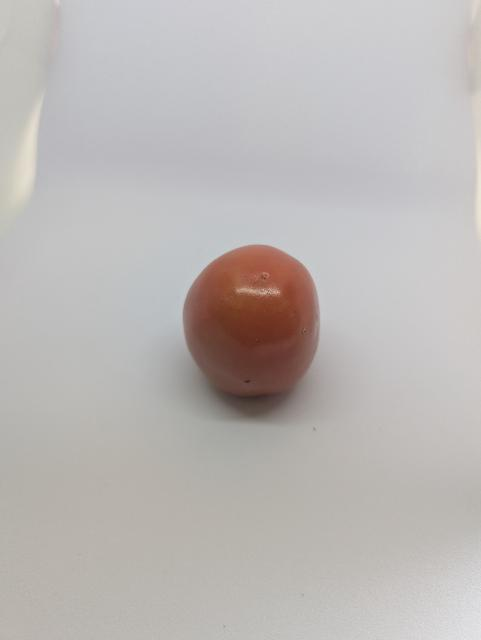red: (176, 238, 336, 410)
